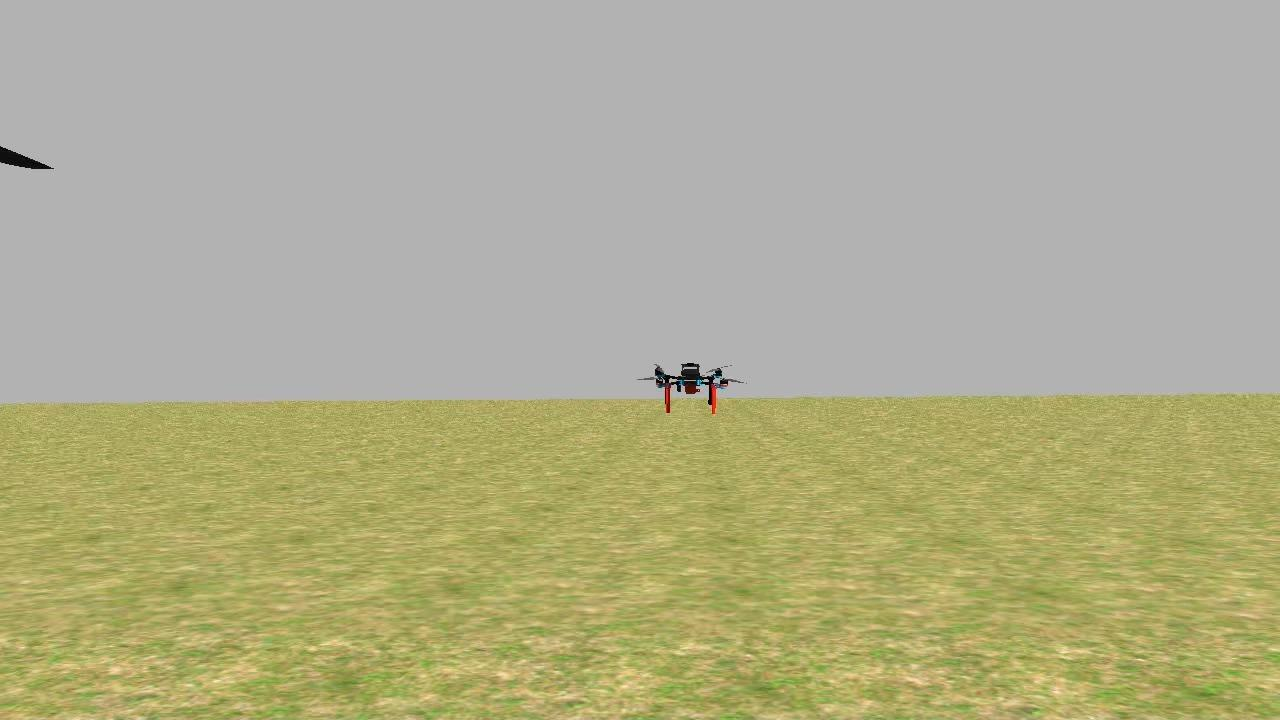UAV: (637, 344, 749, 419)
